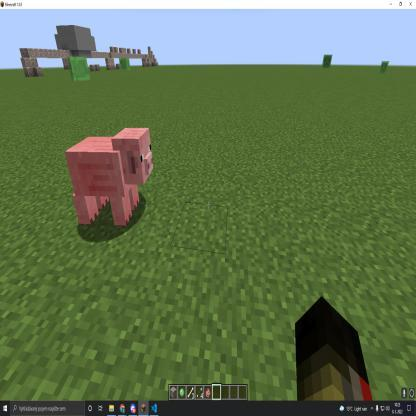pig: (62, 119, 157, 237)
